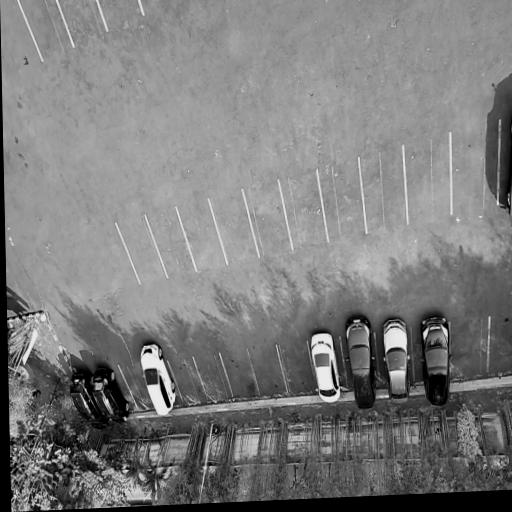Car: (341, 315, 381, 411), (139, 342, 181, 417), (419, 313, 451, 408), (91, 361, 135, 427), (381, 316, 412, 406), (308, 329, 344, 405), (69, 371, 110, 433)
Space Available: (452, 121, 499, 215), (359, 146, 407, 234), (404, 133, 450, 224), (318, 159, 366, 243), (244, 180, 292, 259), (209, 190, 259, 265), (280, 171, 327, 250), (177, 200, 227, 272), (147, 206, 196, 278), (117, 217, 167, 284), (19, 0, 73, 61), (57, 0, 106, 46), (451, 317, 488, 377), (277, 342, 317, 393), (248, 346, 286, 394), (220, 349, 258, 397), (194, 353, 232, 401), (119, 363, 155, 410), (169, 357, 207, 401), (488, 313, 512, 372), (98, 0, 144, 30)
